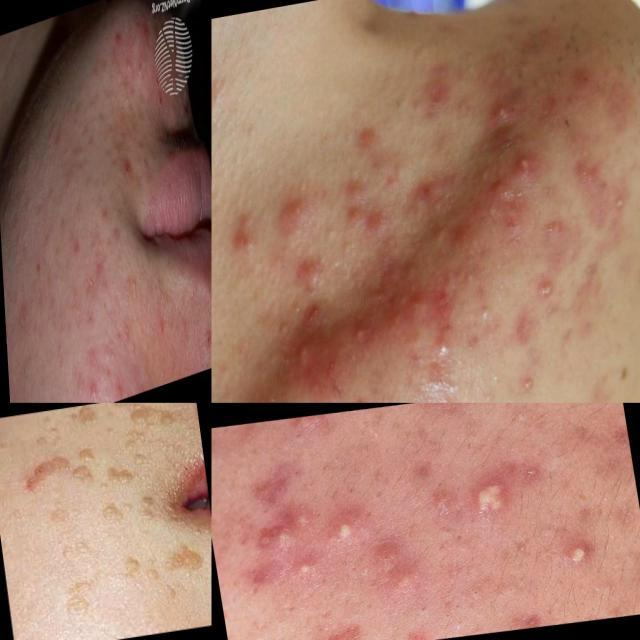Pimples: (280, 300, 352, 403), (268, 176, 322, 247), (472, 471, 512, 520), (558, 523, 592, 575), (245, 520, 292, 556), (336, 309, 372, 355), (511, 142, 544, 190), (483, 90, 515, 138), (373, 306, 407, 350), (530, 269, 562, 313), (425, 323, 460, 363), (512, 358, 541, 403), (404, 284, 434, 326), (608, 183, 632, 235), (468, 292, 500, 330), (119, 42, 139, 84), (294, 548, 316, 580), (338, 512, 358, 540), (69, 114, 84, 145), (466, 581, 484, 600), (72, 232, 84, 260), (441, 606, 454, 624), (381, 606, 395, 622)
